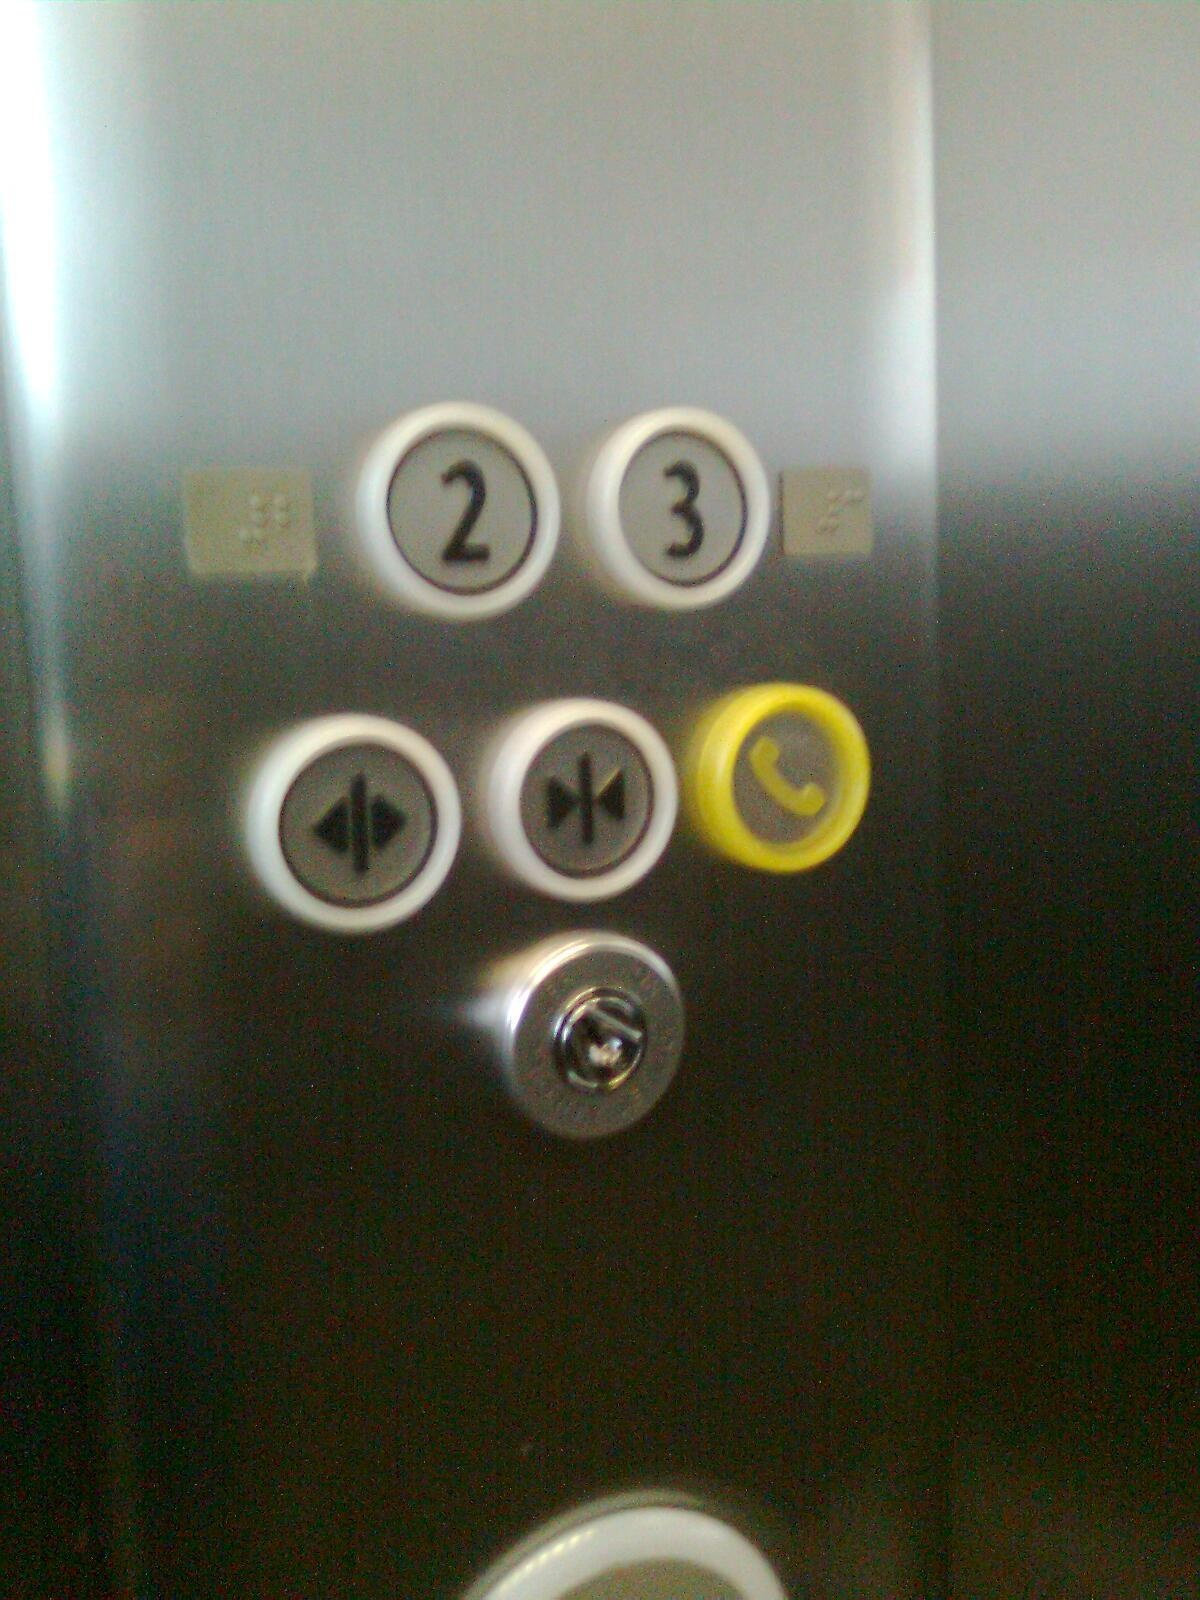2: (350, 396, 567, 631)
3: (577, 393, 784, 619)
call: (688, 673, 877, 884)
close: (480, 693, 682, 912)
keyhole: (484, 923, 686, 1143)
open: (246, 706, 463, 942)
